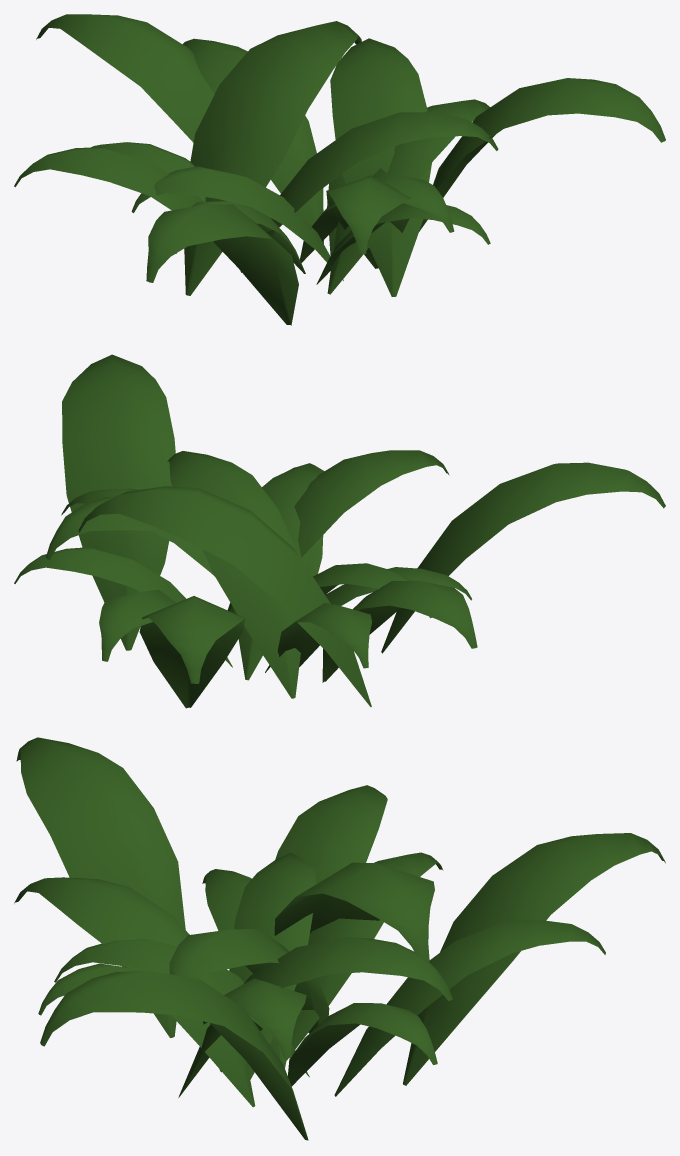
Rendered from SM_fern_tropical_03.fbx.
3 renders of one model, top to bottom at view 1: azimuth 30°, elevation 25°; view 2: azimuth 150°, elevation 25°; view 3: azimuth 270°, elevation 25°, orthographic. The views are drawn at different scales.
Parts seen in each view (by area): view 1: fern03; view 2: fern03; view 3: fern03.
Boxes of the visible parts, box(x1,y1,x2,y2) form: fern03: box(14, 14, 665, 325); fern03: box(14, 354, 665, 708); fern03: box(14, 737, 665, 1140).
Bounding box in the file's own units: 66.12 × 23.71 × 62.08.
